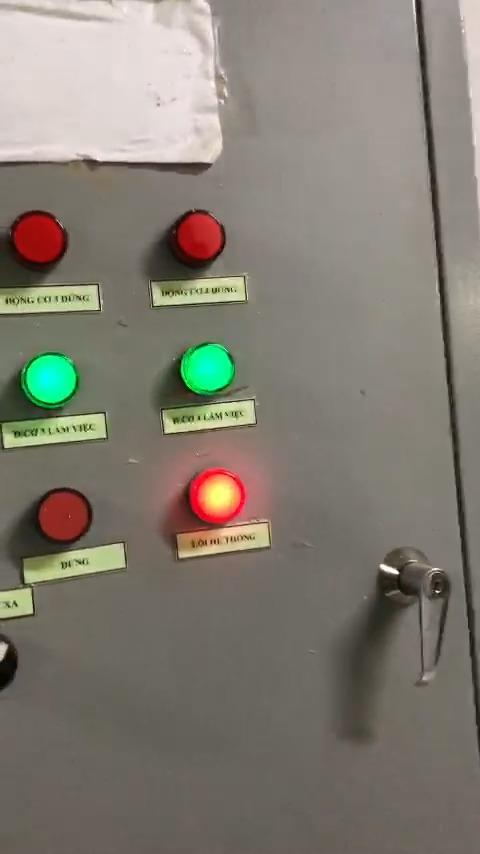led: (5, 204, 68, 270), (17, 345, 80, 410), (184, 462, 246, 523), (32, 485, 94, 545), (181, 340, 238, 401), (171, 206, 229, 265)
